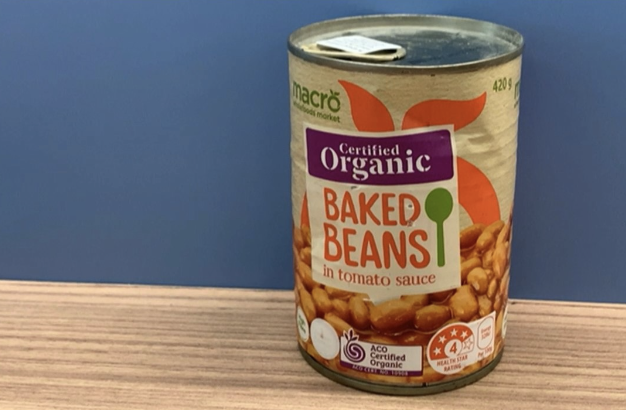Baked beans_400-499g: (292, 84, 486, 370)
